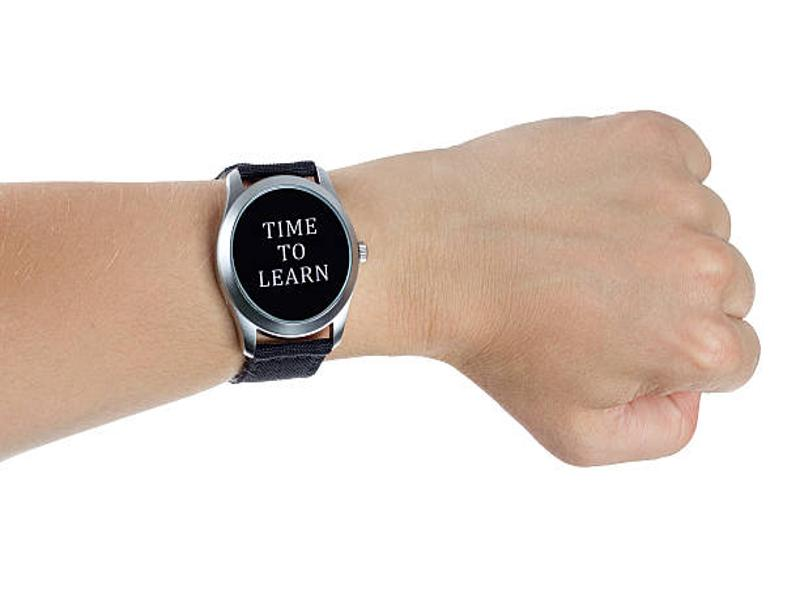watch: (210, 158, 368, 387)
